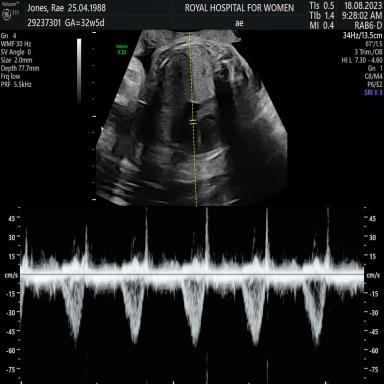Ultrasound-Waves: (25, 207, 361, 384)
